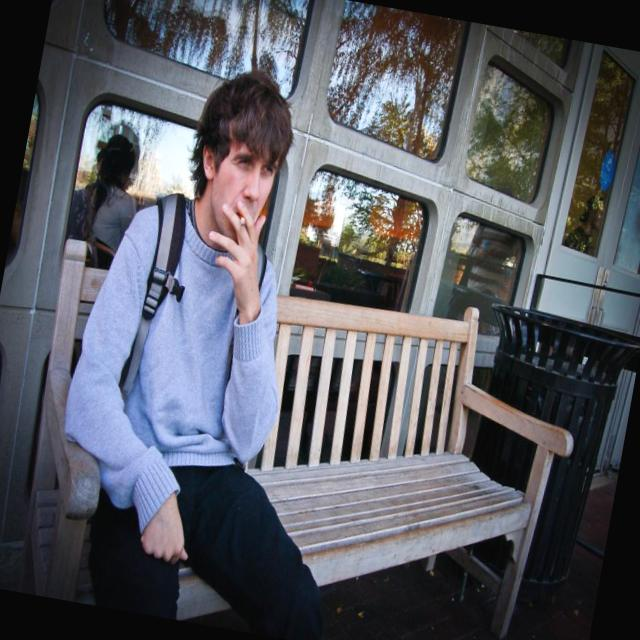smoke: (228, 204, 251, 237)
